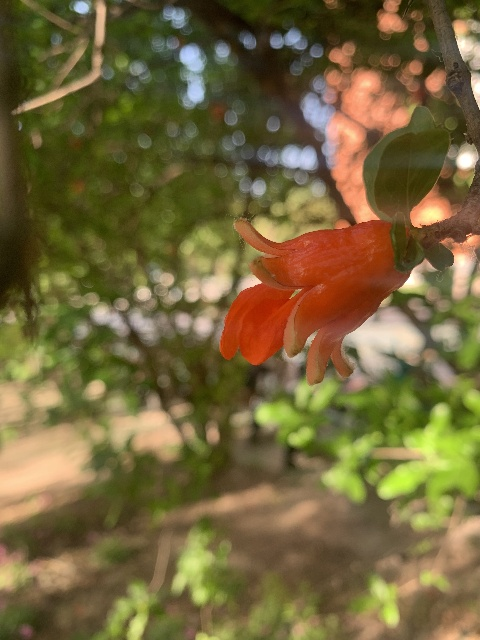flower: (218, 216, 411, 385)
